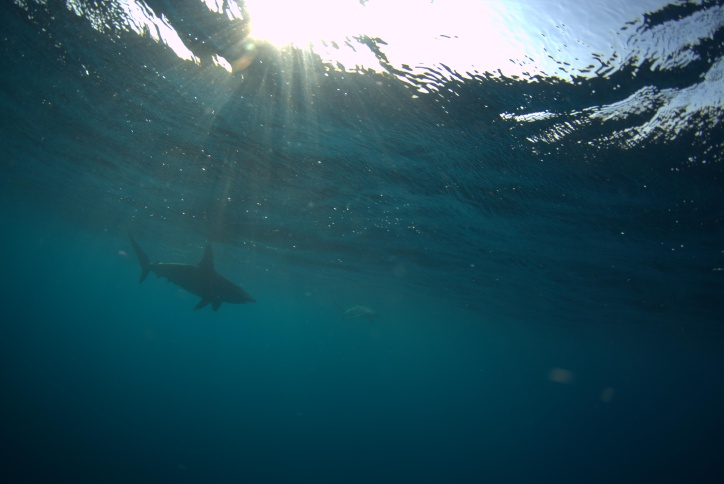Hammer: (124, 226, 272, 329)
